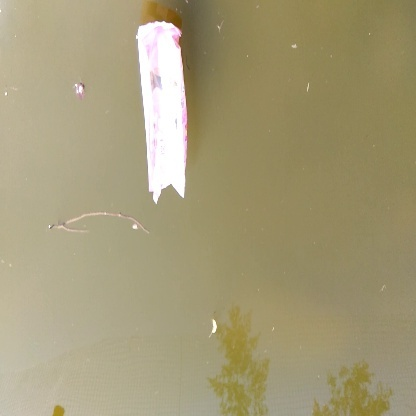branch: (47, 201, 156, 249)
plastic-bag: (134, 17, 197, 202)
